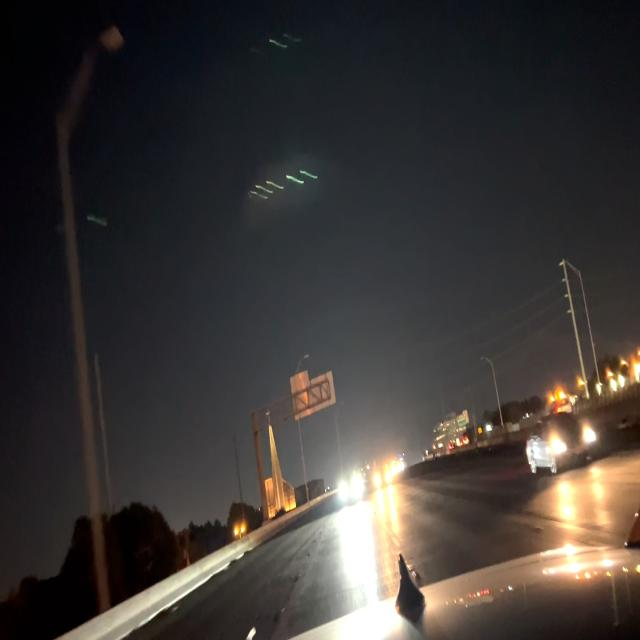back-of-sign: (290, 372, 337, 418)
